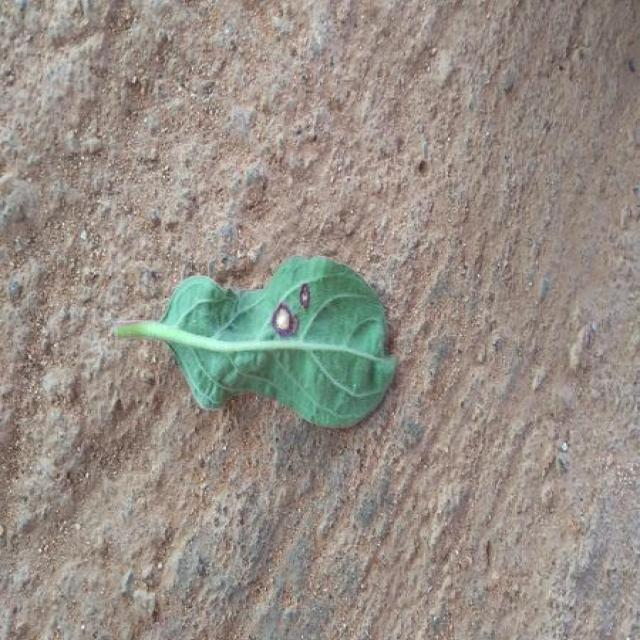Anthracnose: (115, 256, 397, 427)
globe amarnath: (115, 256, 397, 427)
